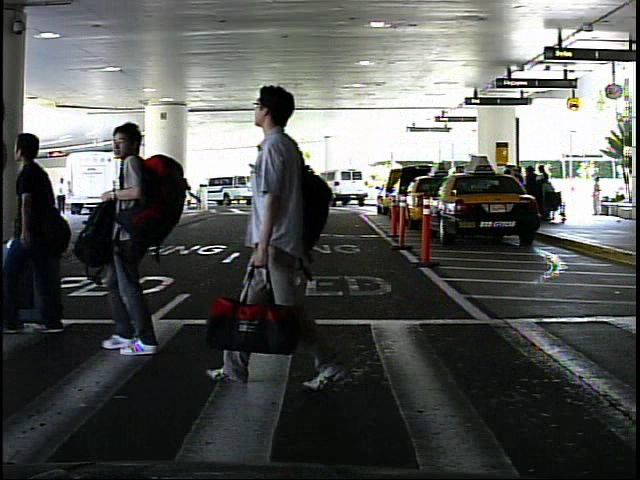person: (222, 68, 339, 393), (84, 115, 187, 361), (9, 115, 83, 355), (588, 173, 607, 219)
